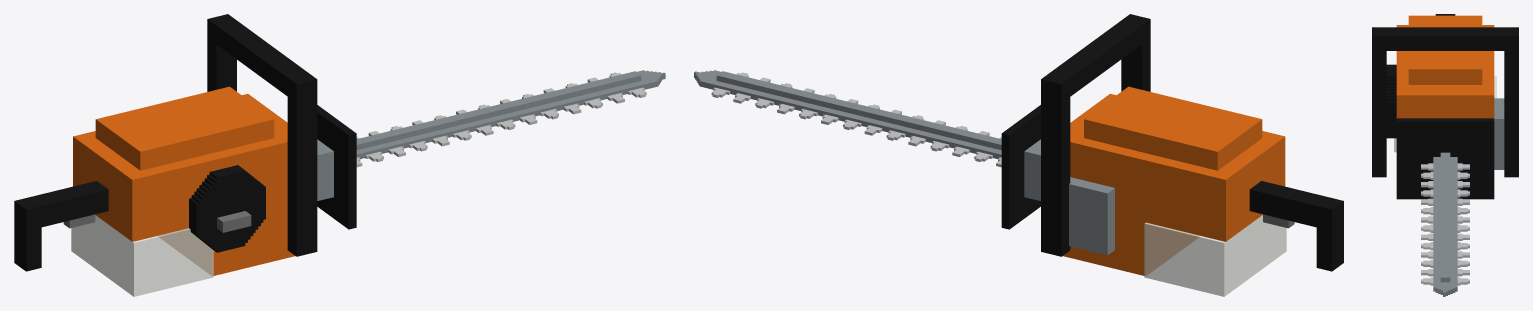
The model's file is trimmer_off.glb.
3 renders of one model, left to right at view 1: azimuth 30°, elevation 25°; view 2: azimuth 150°, elevation 25°; view 3: azimuth 270°, elevation 25°, orthographic. The views are drawn at different scales.
Parts seen in each view (by area): view 1: trimmer_off:compound; view 2: trimmer_off:compound; view 3: trimmer_off:compound.
Part boxes in pixels (x1,y1,x2,y2): trimmer_off:compound: (14,14,665,296); trimmer_off:compound: (694,14,1343,296); trimmer_off:compound: (1372,14,1518,296).
Size of the model in its own units: 1 by 0.276 by 0.24.
